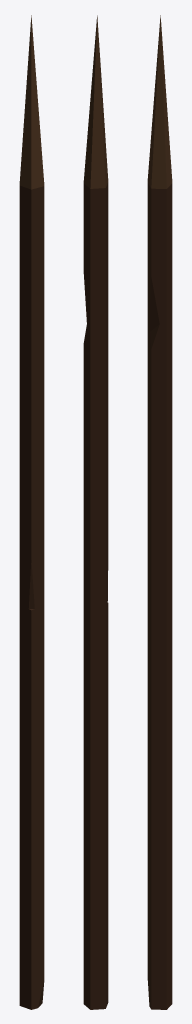
File: Cave_Lair_Weapon_Wooden_Timber_Spear_02.fbx
The picture shows the model from 3 angles, left to right: view 1: azimuth 90°, elevation 25°; view 2: azimuth 210°, elevation 25°; view 3: azimuth 270°, elevation 25°; orthographic projection.
Visible parts, largest first — view 1: Cave_Lair_Weapon_Wooden_Timber_Spear_02; view 2: Cave_Lair_Weapon_Wooden_Timber_Spear_02; view 3: Cave_Lair_Weapon_Wooden_Timber_Spear_02.
Part boxes in pixels (<box>): Cave_Lair_Weapon_Wooden_Timber_Spear_02: <box>19,15,44,1009</box>; Cave_Lair_Weapon_Wooden_Timber_Spear_02: <box>83,15,108,1009</box>; Cave_Lair_Weapon_Wooden_Timber_Spear_02: <box>147,15,172,1009</box>.
Bounding box in the file's own units: 0.0417 × 1.88 × 0.0429.
